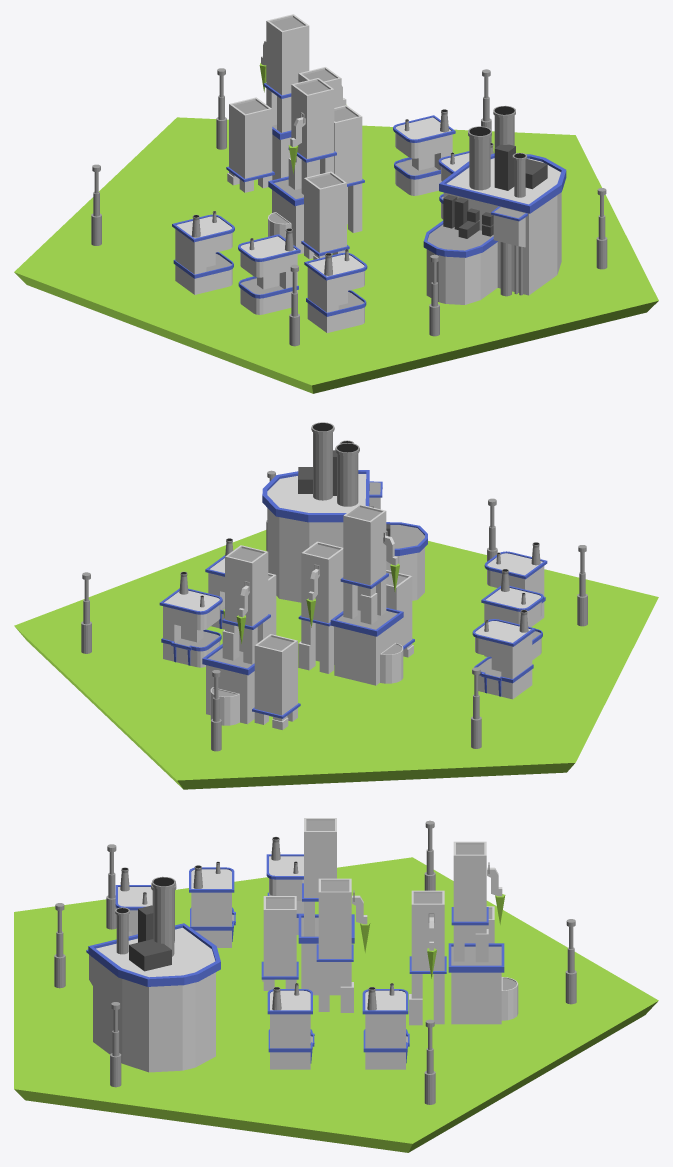
Rendered from VilleSpace_3.fbx.
3 views of the same model, one above another, from view 1: azimuth 30°, elevation 25°; view 2: azimuth 150°, elevation 25°; view 3: azimuth 270°, elevation 25° (orthographic). The views are drawn at different scales.
Visible parts, largest first — view 1: tiles; view 2: tiles; view 3: tiles.
Part boxes in pixels (box(x1,y1,x2,y2)): tiles: box(14, 14, 658, 393); tiles: box(14, 422, 658, 789); tiles: box(14, 818, 658, 1152).
Size of the model in its own units: 111 by 32.38 by 105.
